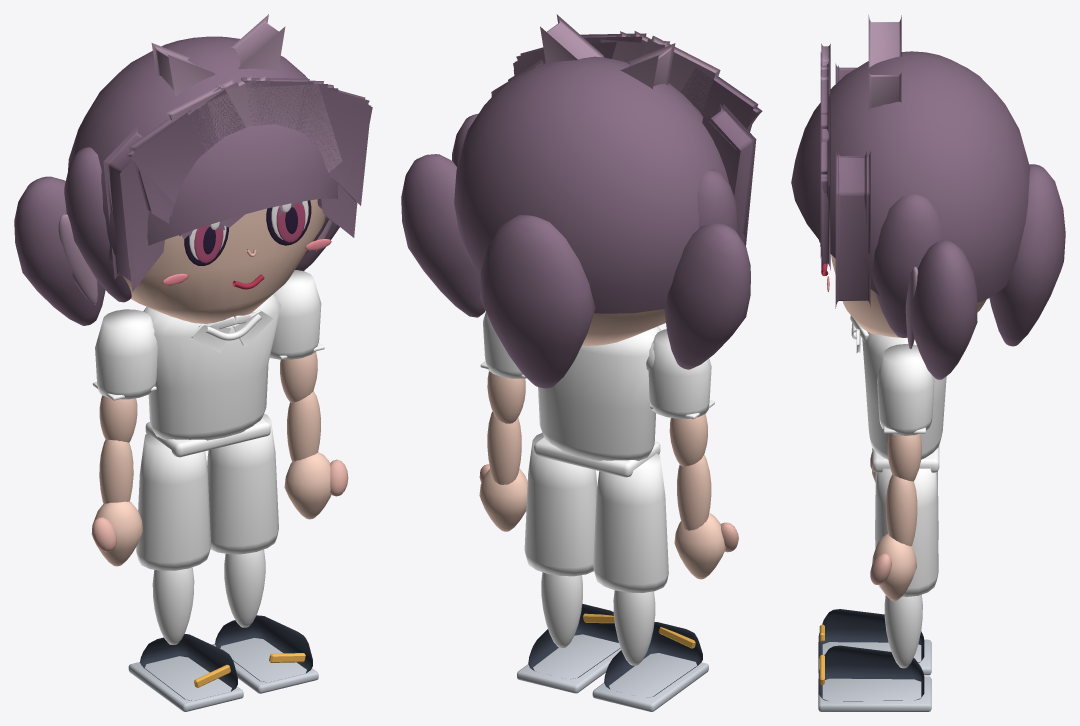
The model's file is chibi-stylized-v5.glb.
3 views of the same model, side by side, from view 1: azimuth 30°, elevation 25°; view 2: azimuth 150°, elevation 25°; view 3: azimuth 270°, elevation 25° (orthographic).
Visible parts, largest first — view 1: hair_cap, torso_mesh, head_mesh, thigh_mesh_l, thigh_mesh_r, hair_style_twintail_tail_l, hair_style_ponytail_bang_1, jersey_sleeve_l, hair_style_bob_side_l, hair_style_ponytail_bang_2, hair_style_ponytail_bang_3, hair_style_short_bang_1 (+34 smaller); view 2: hair_cap, hair_style_ponytail_tail, torso_mesh, hair_style_twintail_tail_l, thigh_mesh_l, thigh_mesh_r, hair_style_twintail_tail_r, foot_mesh_l_sole, jersey_sleeve_l, foot_mesh_r_sole, shin_mesh_l, shin_mesh_r (+20 smaller); view 3: hair_cap, hair_style_ponytail_tail, hair_style_twintail_tail_r, hair_style_bob_side_r, jersey_sleeve_r, thigh_mesh_r, foot_mesh_r_sole, hair_style_twintail_side_r, torso_mesh, foot_mesh_r, shin_mesh_r, foot_mesh_l (+13 smaller).
Part boxes in pixels (box(x1,y1,x2,y2)): hair_cap: box(68, 36, 337, 261); torso_mesh: box(143, 294, 281, 440); head_mesh: box(123, 199, 325, 323); thigh_mesh_l: box(136, 433, 211, 570); thigh_mesh_r: box(207, 413, 278, 554); hair_style_twintail_tail_l: box(14, 176, 105, 325); hair_style_ponytail_bang_1: box(126, 86, 245, 227); jersey_sleeve_l: box(95, 309, 157, 399); hair_style_bob_side_l: box(64, 147, 131, 302); hair_style_ponytail_bang_2: box(222, 84, 342, 211); hair_style_ponytail_bang_3: box(305, 87, 372, 198); hair_style_short_bang_1: box(131, 103, 217, 239); hair_cap: box(454, 56, 728, 313); hair_style_ponytail_tail: box(480, 215, 595, 388); torso_mesh: box(538, 326, 660, 460); hair_style_twintail_tail_l: box(664, 223, 750, 369); thigh_mesh_l: box(593, 453, 668, 592); thigh_mesh_r: box(524, 432, 596, 576); hair_style_twintail_tail_r: box(401, 154, 485, 317); foot_mesh_l_sole: box(592, 653, 708, 711); jersey_sleeve_l: box(648, 329, 711, 418); foot_mesh_r_sole: box(517, 634, 621, 693); shin_mesh_l: box(613, 590, 655, 665); shin_mesh_r: box(541, 572, 582, 648); hair_cap: box(791, 51, 1030, 302); hair_style_ponytail_tail: box(989, 164, 1065, 346); hair_style_twintail_tail_r: box(910, 240, 977, 379); hair_style_bob_side_r: box(871, 194, 942, 337); jersey_sleeve_r: box(877, 344, 934, 435); thigh_mesh_r: box(875, 468, 938, 596); foot_mesh_r_sole: box(818, 676, 931, 711); hair_style_twintail_side_r: box(835, 193, 870, 308); torso_mesh: box(862, 331, 946, 459); foot_mesh_r: box(818, 645, 924, 701); shin_mesh_r: box(884, 594, 922, 668); foot_mesh_l: box(818, 609, 924, 662).
Size of the model in its own units: 1.9 by 3.42 by 1.33.
